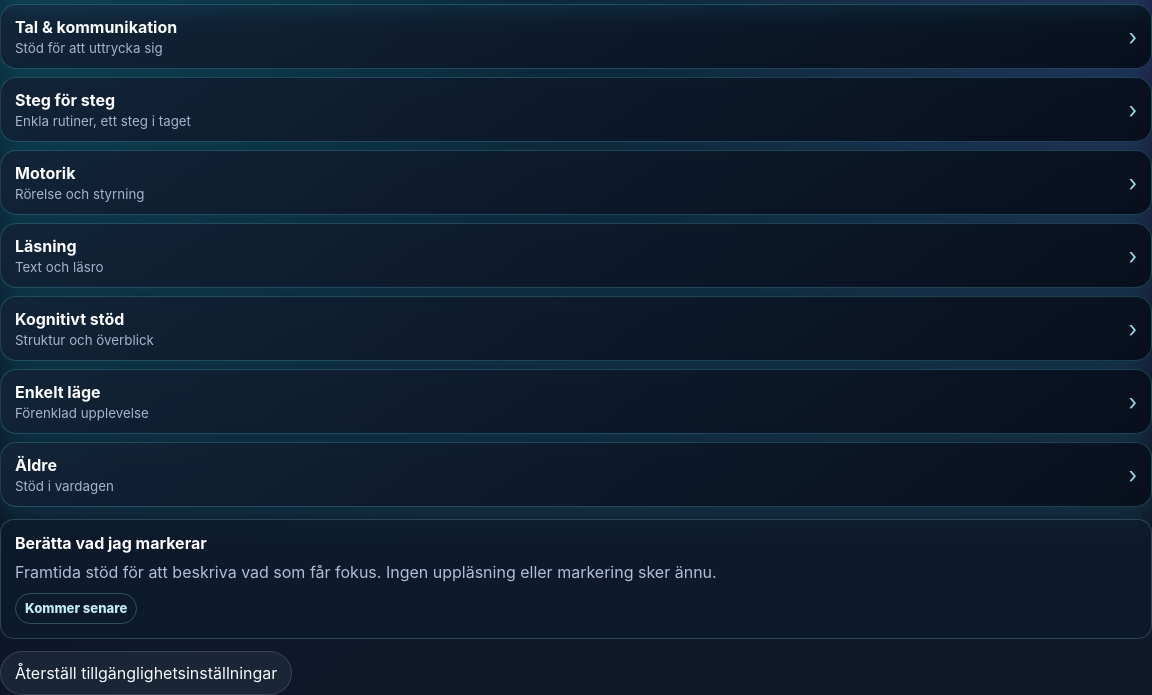
Test case: AccessibilityHub › shows cognitive support cards and a contained step-by-step example
(page scrolled)
Click the button "Kognitivt stöd Struktur och överblick ›" at (70,319), box [0, 296, 1151, 361]
(page scrolled)
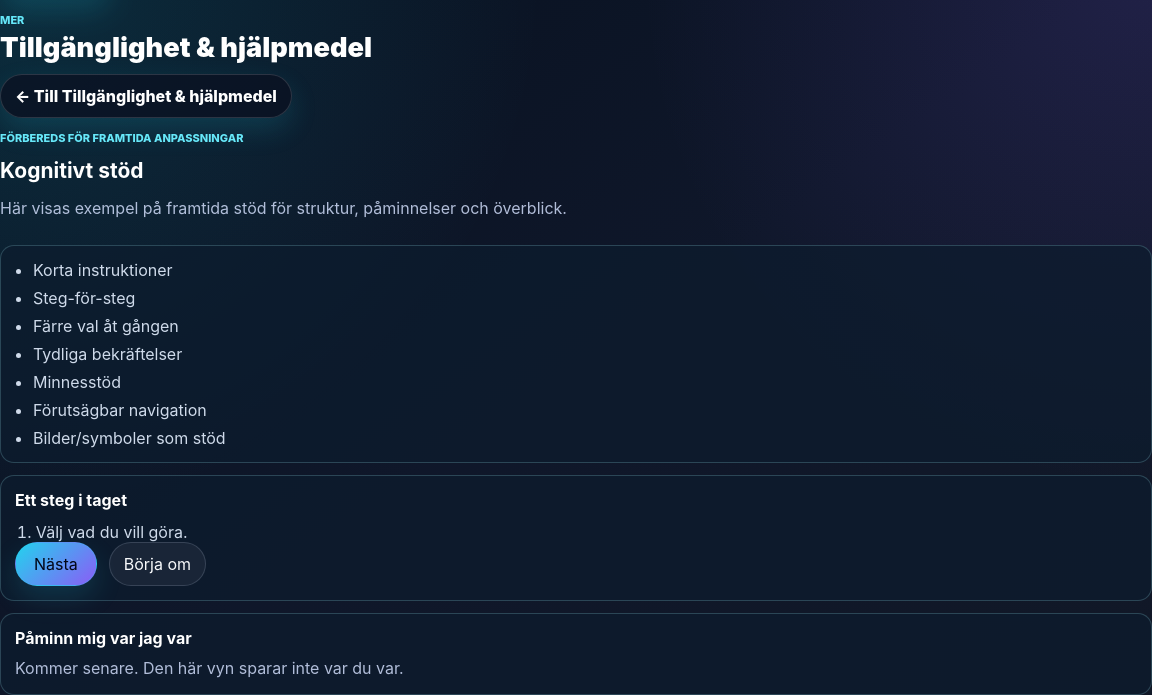
Expected: the list item "Korta instruktioner" is shown, [33, 260, 173, 280]
Expected: the list item "Steg-för-steg" is shown, [33, 288, 135, 308]
Expected: the list item "Färre val åt gången" is shown, [33, 316, 179, 336]
Click the button "Nästa" at (56,564), box [15, 542, 97, 586]
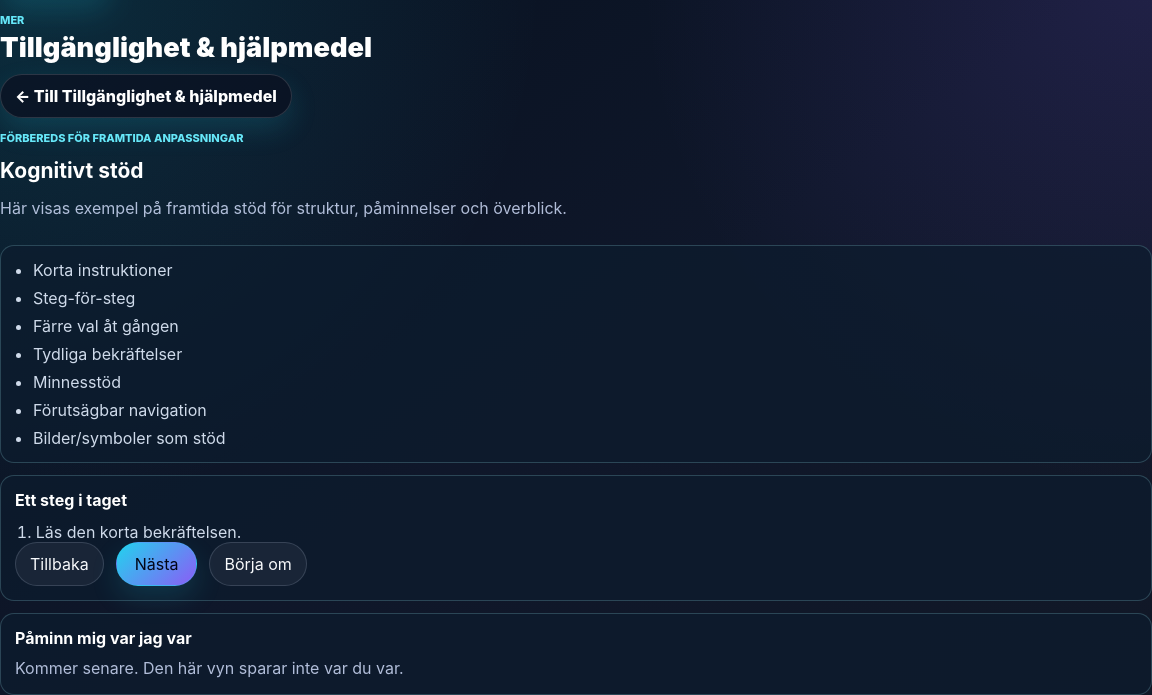
Expected: the list item "Läs den korta bekräftelsen." is shown, [36, 522, 241, 542]
Click the button "Tillbaka" at (59,564), box [15, 542, 104, 586]
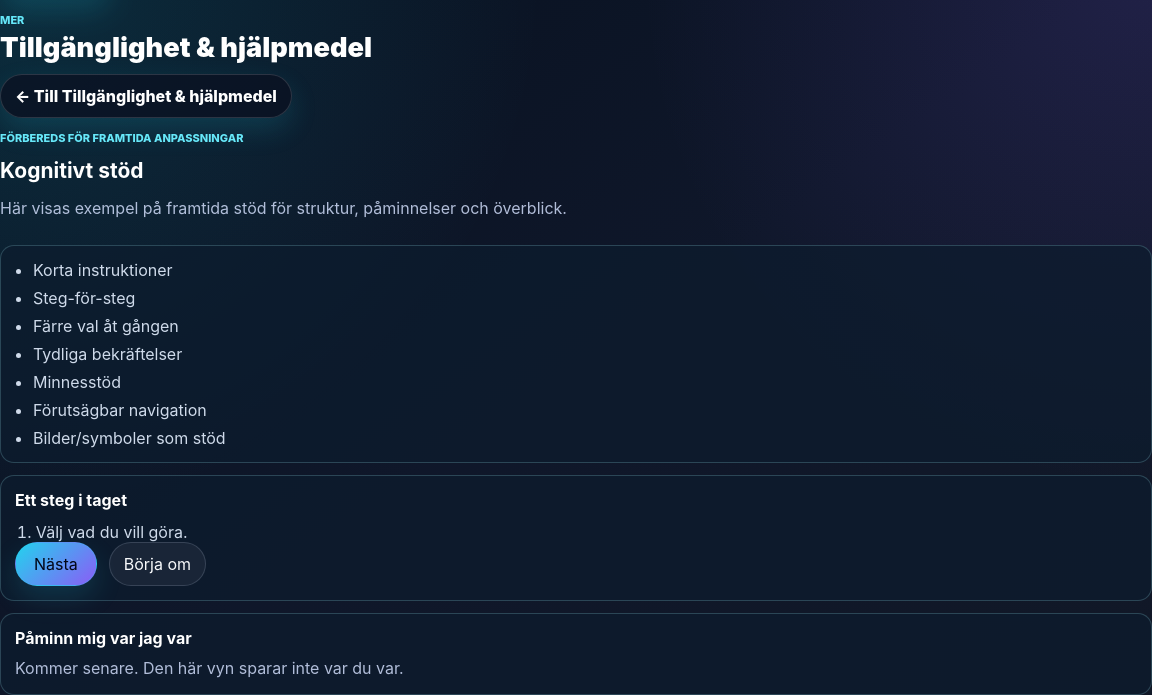
Expected: the heading "Påminn mig var jag var" is shown, [15, 628, 192, 648]
Expected: the list item "Välj vad du vill göra." is shown, [36, 522, 188, 542]
